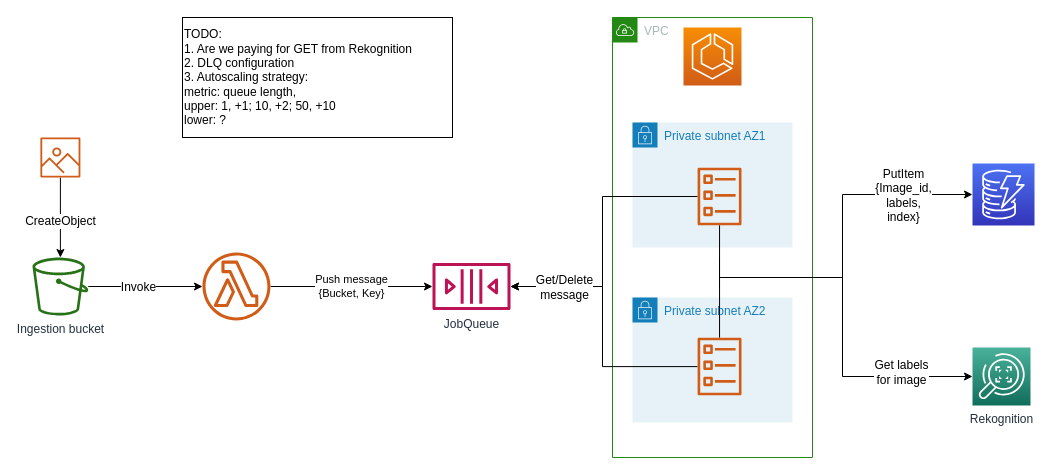
This 1053x475 diagram has some shape labels left out. The shapes that lost their labels are listed below. From the top down, each one's centre as x and y in pixels, then its label:
At point 712,56: "ECS".
At point 60,157: "Image".
At point 1003,194: "DDB Table".
At point 236,286: "CreateJobFunction".
